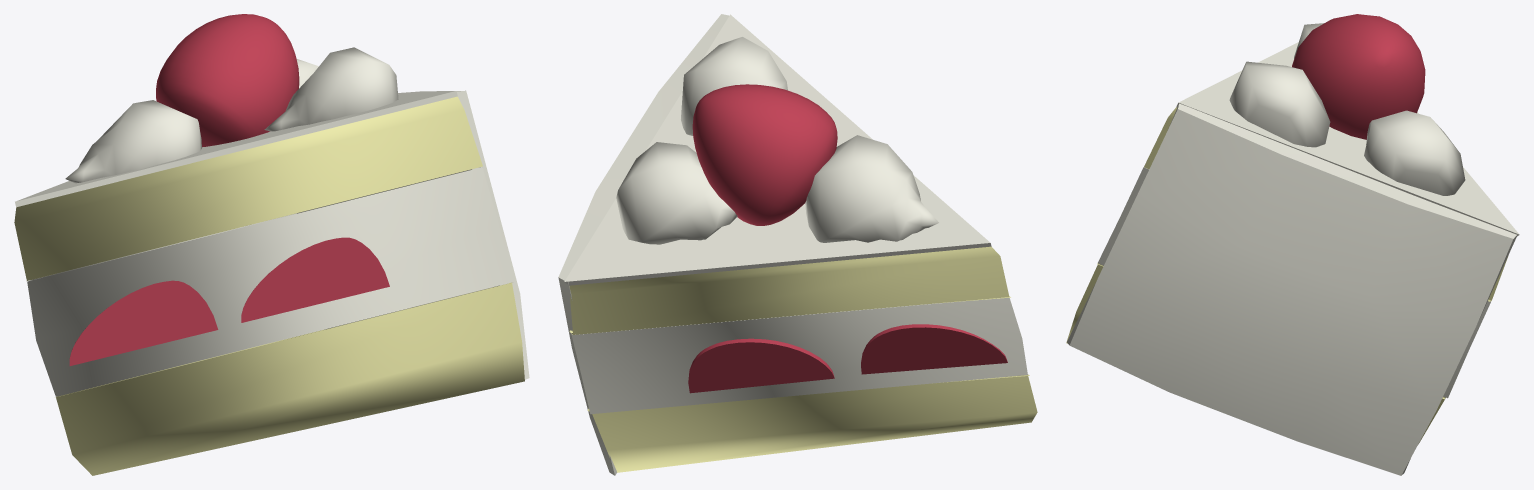
File: cake.fbx
3 views of the same model, side by side, from view 1: azimuth 30°, elevation 25°; view 2: azimuth 150°, elevation 25°; view 3: azimuth 270°, elevation 25° (orthographic). The views are drawn at different scales.
Visible parts, largest first — view 1: cake; view 2: cake; view 3: cake.
Boxes of the visible parts, x1,y1,x2,y2 form: cake: [14, 14, 529, 475]; cake: [558, 14, 1037, 475]; cake: [1066, 14, 1519, 475].
Bounding box in the file's own units: 23.61 × 23.2 × 24.22.
